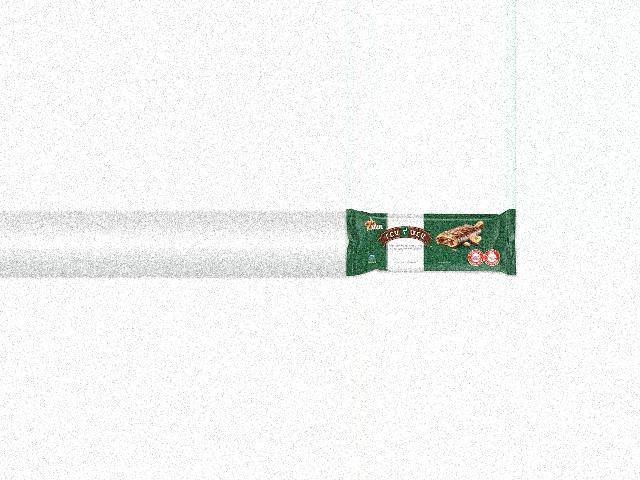chocolate: (343, 209, 517, 279)
